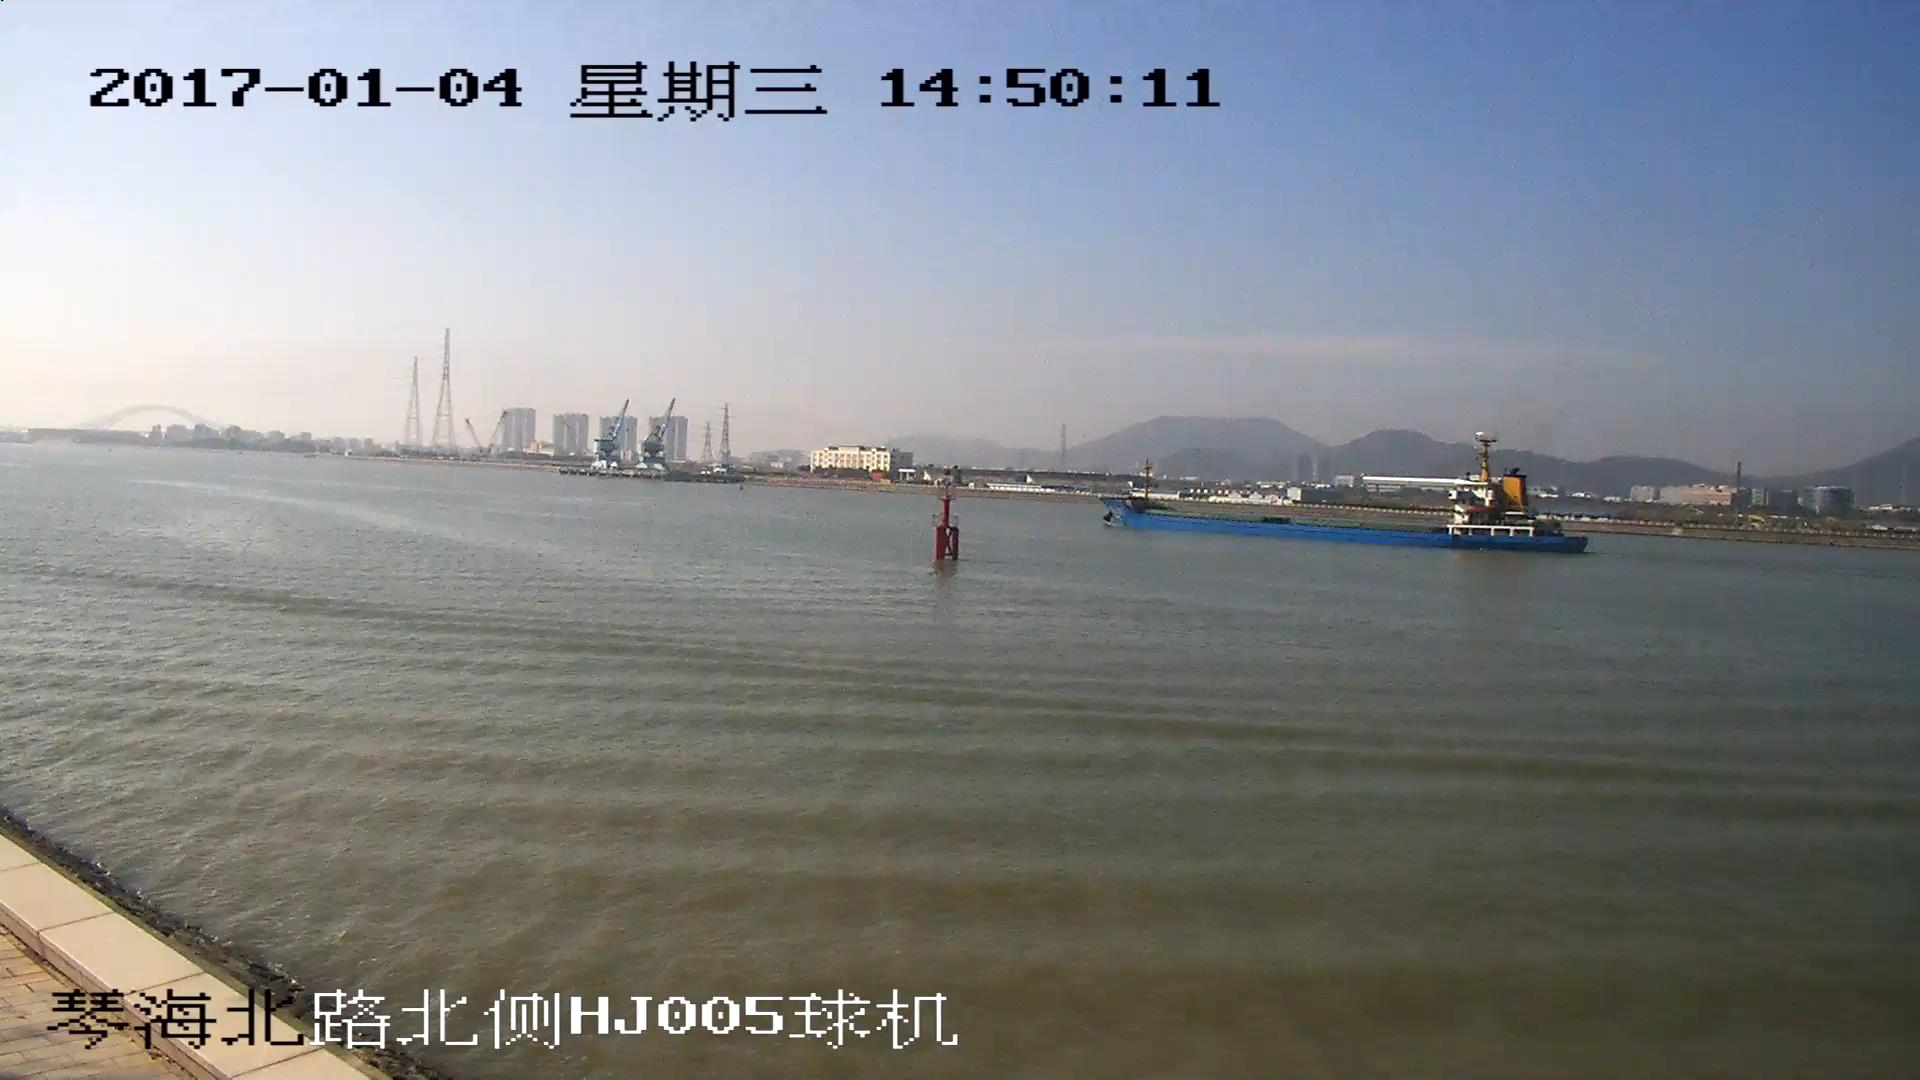general cargo ship: (1104, 438, 1588, 556)
